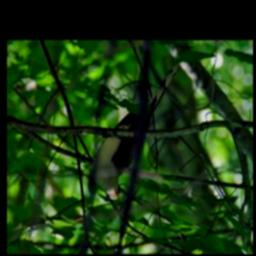Cuckoo: (90, 61, 186, 202)
